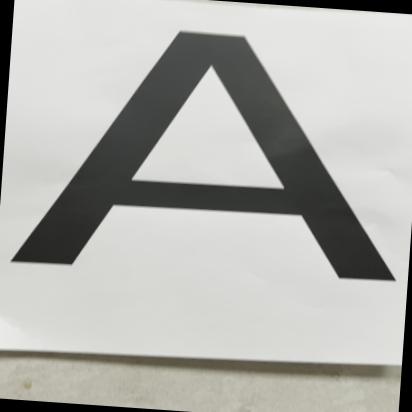seat: (7, 5, 411, 312)
